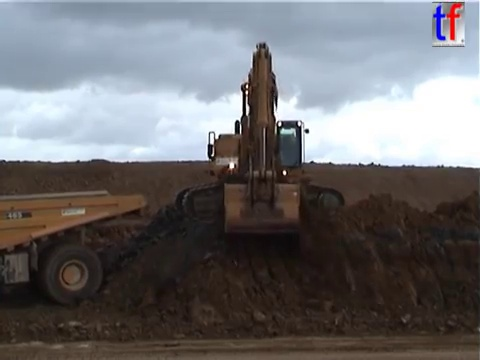excavator: (171, 39, 348, 238)
truck: (1, 187, 149, 309)
